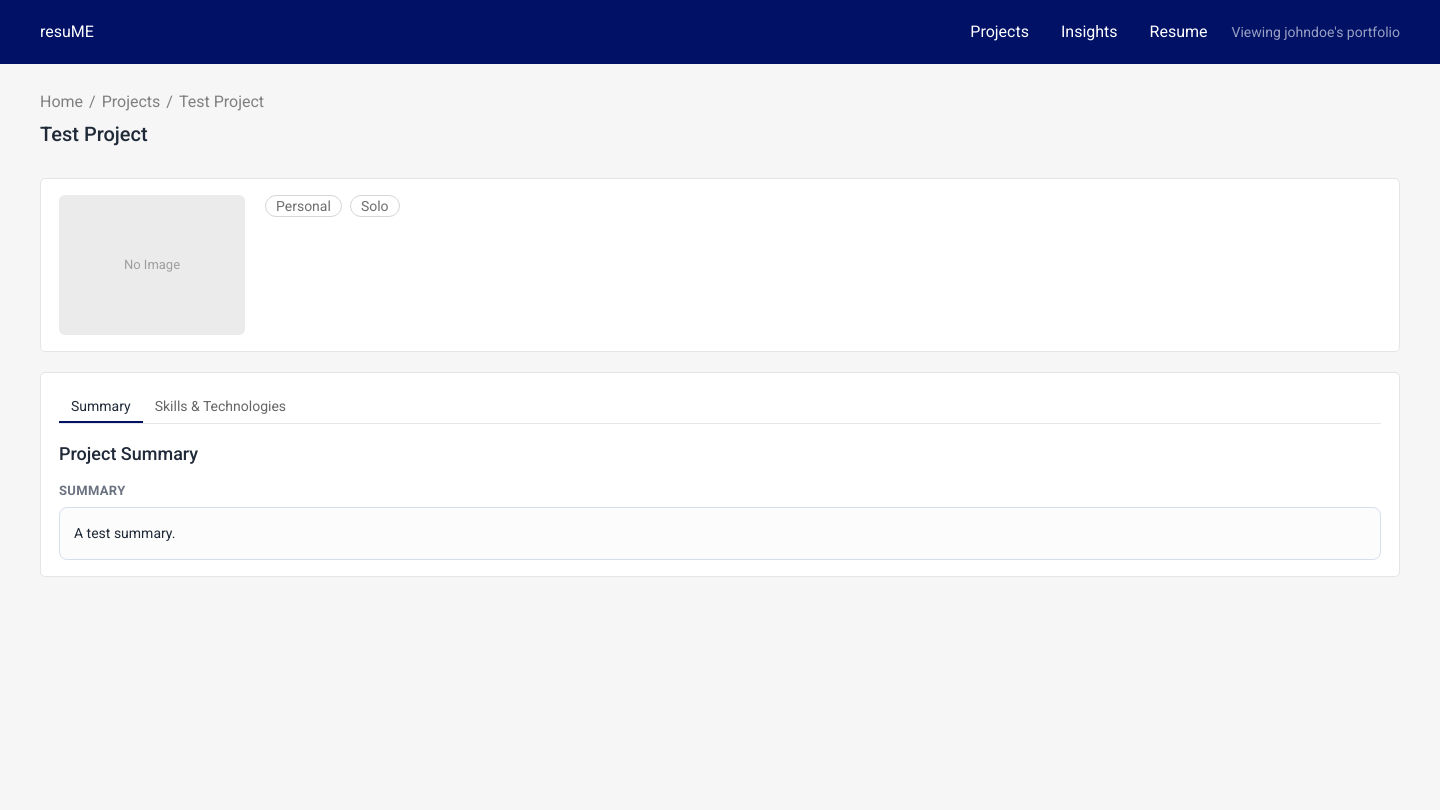
it: PublicProjectDetailPage › skills and technologies › renders skills with formatted names
Click the button "Skills & Technologies". click: (220, 406)
box: x1=143 y1=389 x2=298 y2=423
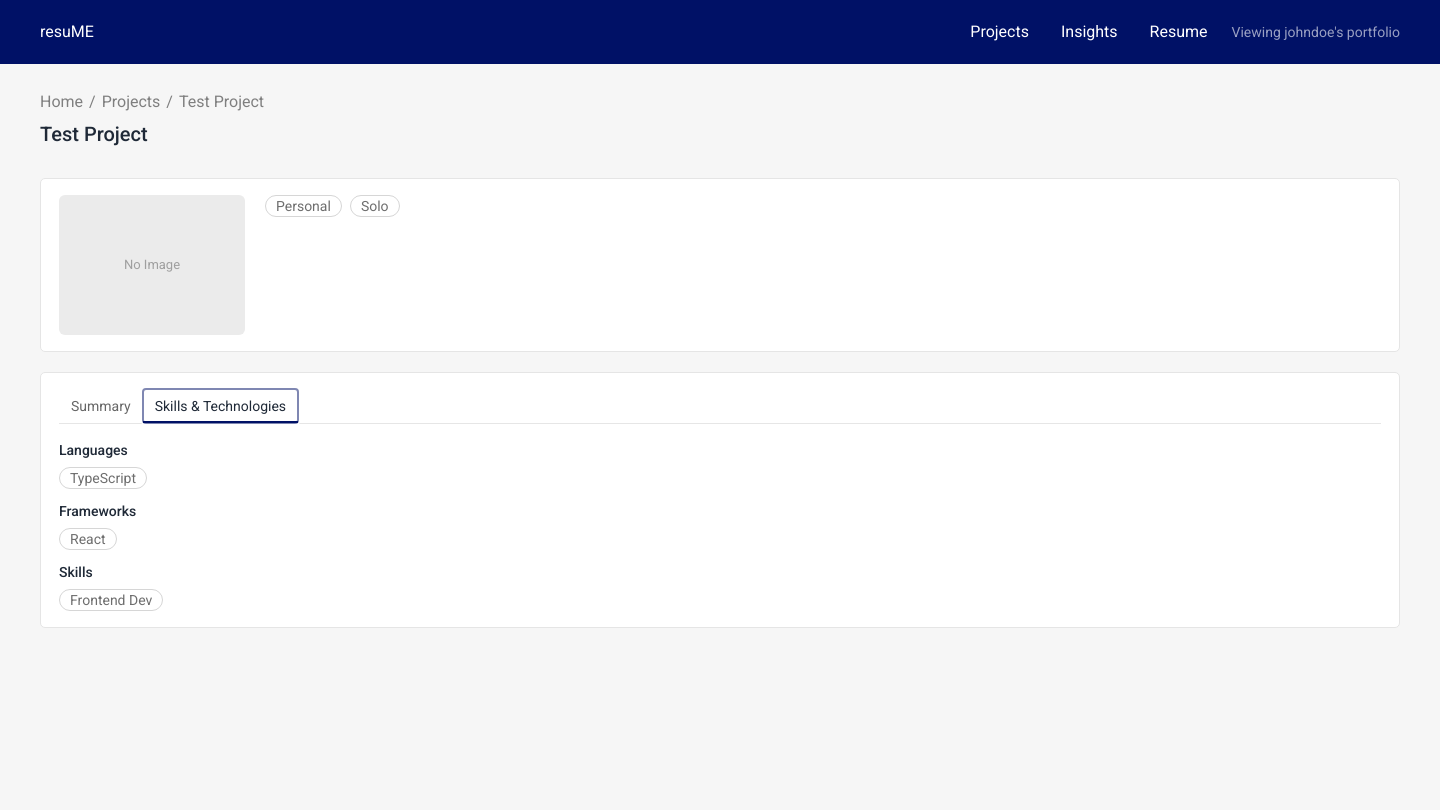
Check: the text "Frontend Dev" is shown, box x1=59 y1=589 x2=163 y2=611
